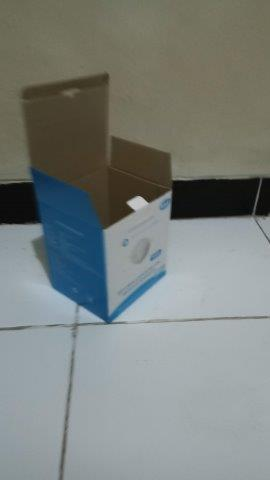kardus: (20, 74, 167, 321)
